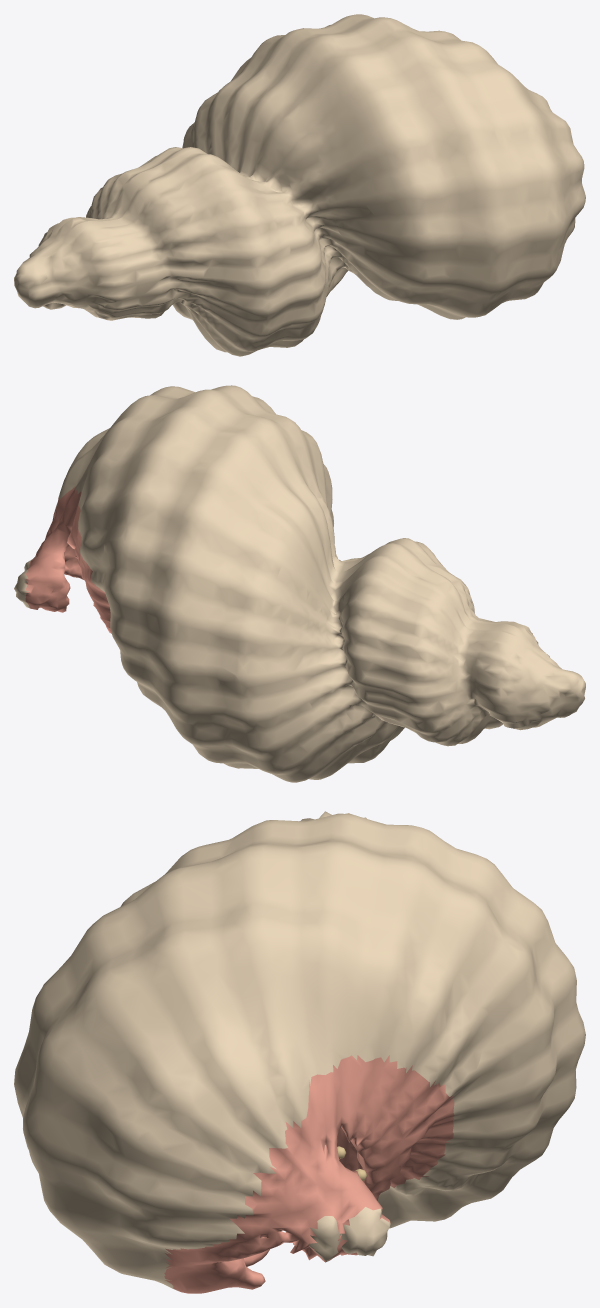
Rendered from seashell.fbx.
3 renders of one model, top to bottom at view 1: azimuth 30°, elevation 25°; view 2: azimuth 150°, elevation 25°; view 3: azimuth 270°, elevation 25°, orthographic. The views are drawn at different scales.
Parts seen in each view (by area): view 1: seashell; view 2: seashell; view 3: seashell.
Boxes of the visible parts, x1,y1,x2,y2 form: seashell: (14, 14, 585, 356); seashell: (14, 385, 585, 782); seashell: (14, 811, 585, 1293).
Size of the model in its own units: 0.1363 by 0.0746 by 0.0856.
